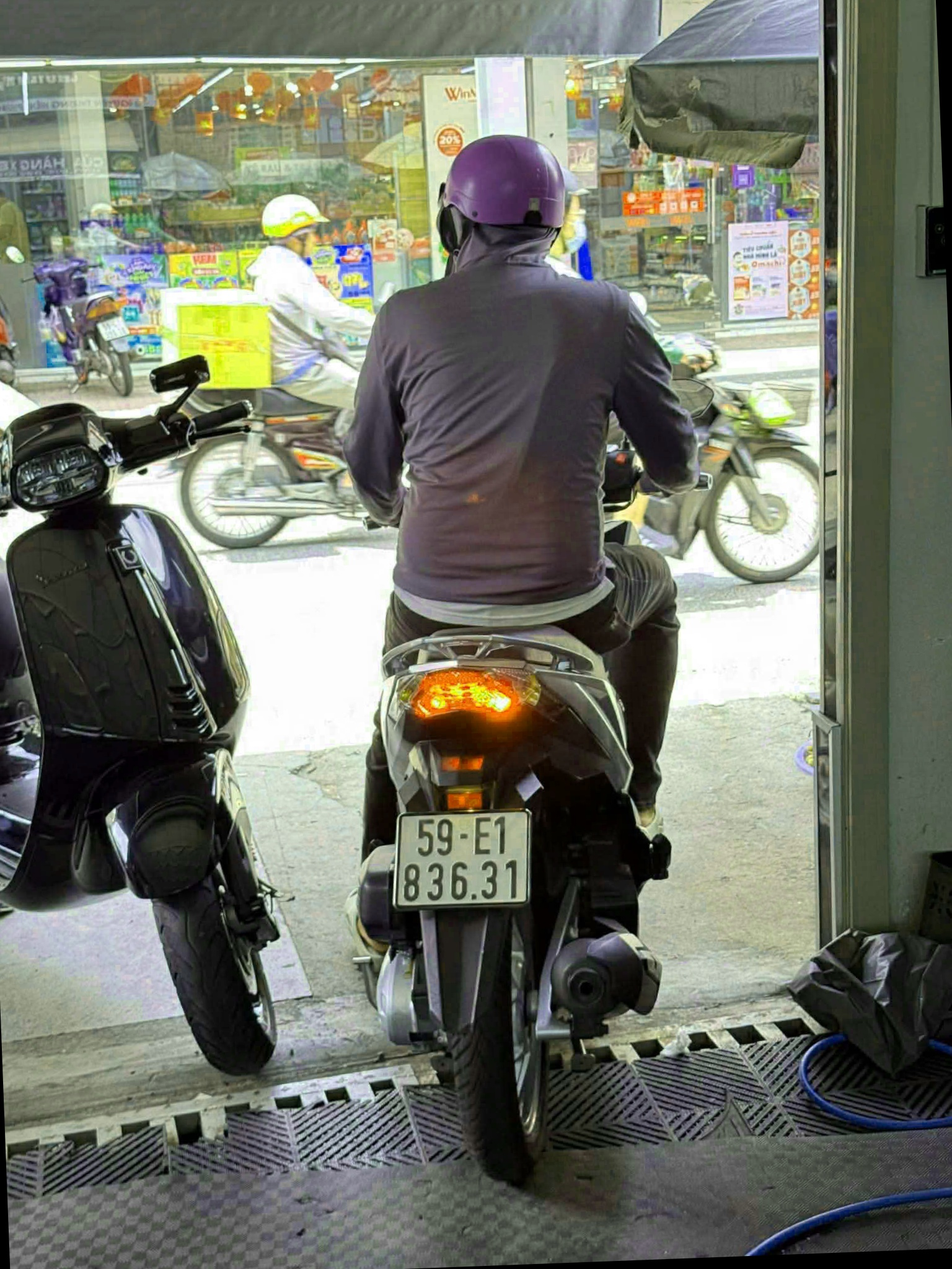Bien-so: (346, 820, 502, 936)
